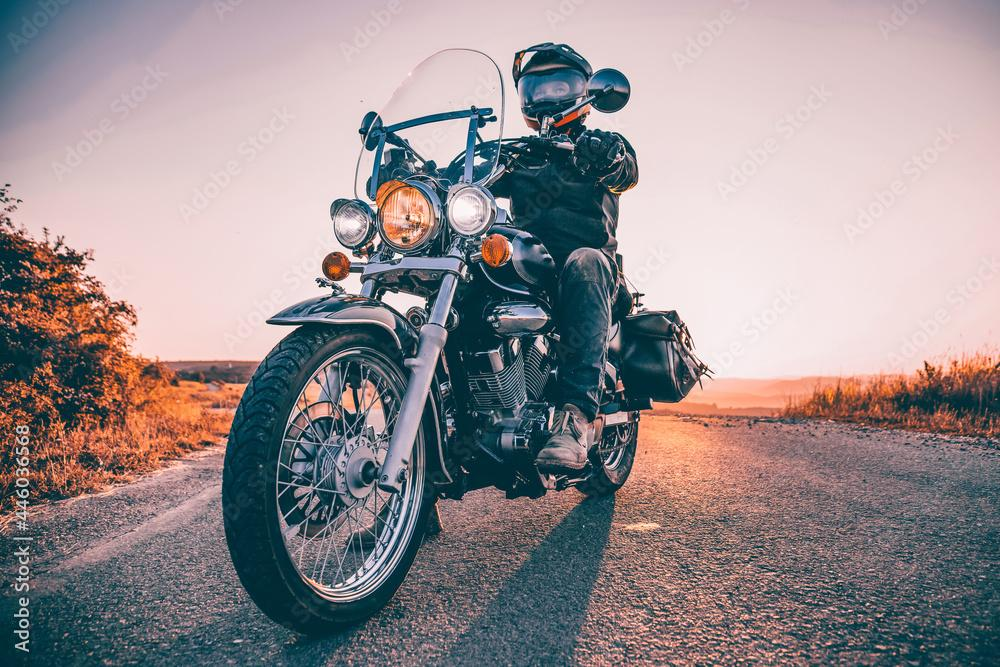helmet: (511, 41, 594, 136)
